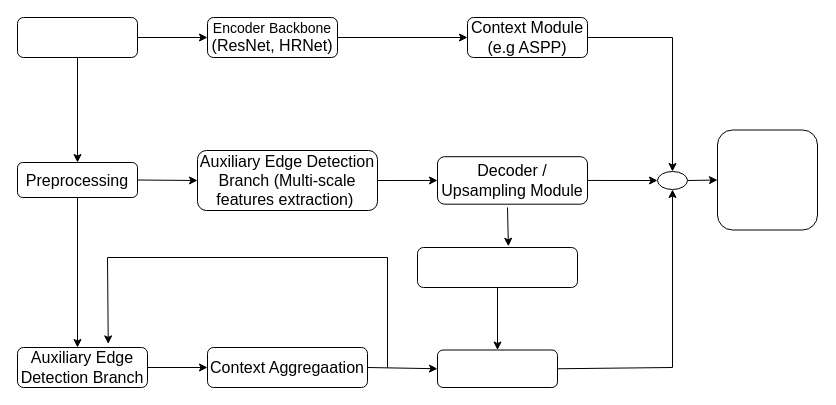
This 836x405 diagram has some shape labels left out. Each missing label, with the centre of its shape:
"Attention Refinement" goes at point (497, 267).
"Final Segmentation Map" goes at point (767, 179).
"Input Image" goes at point (77, 37).
"Post Processing" goes at point (497, 368).
